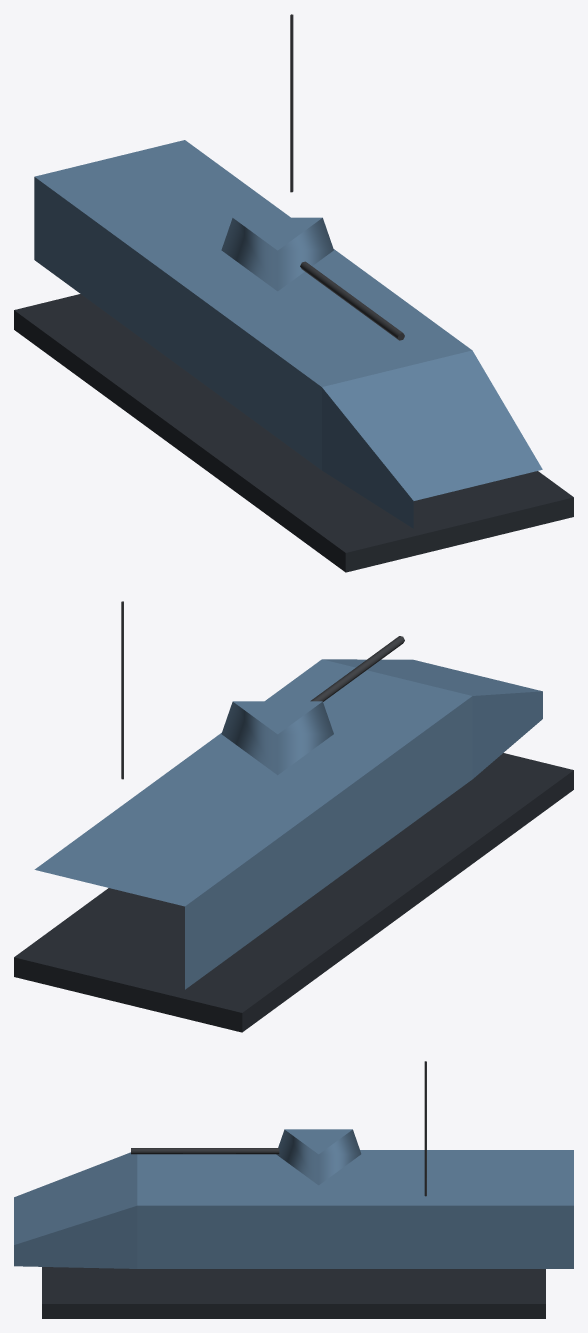
Rendered from veh_ground_scout_car_a10_lod2.glb.
3 views of the same model, one above another, from view 1: azimuth 30°, elevation 25°; view 2: azimuth 150°, elevation 25°; view 3: azimuth 270°, elevation 25° (orthographic). The views are drawn at different scales.
Parts seen in each view (by area): view 1: body, turret; view 2: body, turret; view 3: body, turret.
Boxes of the visible parts, x1,y1,x2,y2 form: body: (14,14,573,572); turret: (221,217,404,340); body: (14,601,573,1032); turret: (221,636,404,775); body: (14,1061,573,1318); turret: (131,1129,361,1185).
Bounding box in the file's own units: 2.43 × 3.34 × 6.8.
